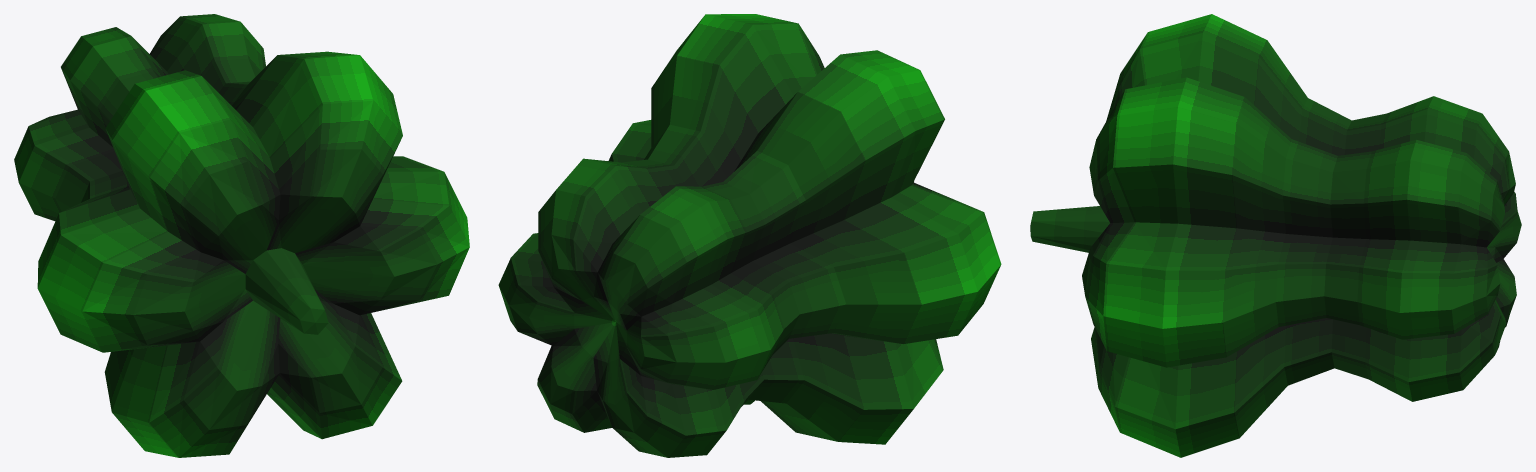
Rendered from Green Pepper.obj.
The picture shows the model from 3 angles, left to right: view 1: azimuth 30°, elevation 25°; view 2: azimuth 150°, elevation 25°; view 3: azimuth 270°, elevation 25°; orthographic projection. The views are drawn at different scales.
Visible parts, largest first — view 1: Inst3D11_RefRep.182; view 2: Inst3D11_RefRep.182; view 3: Inst3D11_RefRep.182.
Part boxes in pixels (x1=…): Inst3D11_RefRep.182: x1=14, y1=14, x2=469, y2=457; Inst3D11_RefRep.182: x1=498, y1=14, x2=1001, y2=457; Inst3D11_RefRep.182: x1=1030, y1=14, x2=1521, y2=457.
Bounding box in the file's own units: 4.04 × 3.65 × 4.5.
